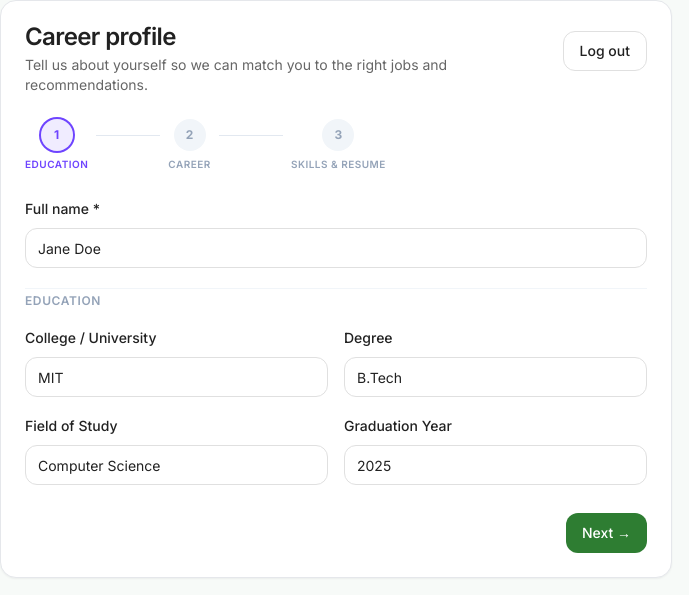
it: ProfileForm › advances from step 1 to step 2 when Next is clicked
The image size is (689, 595).
Expected: the field labelled "Full name *" is shown, [25,228,647,268]
Click the button "Next →".
click(606, 533)  # box [566,513,647,553]
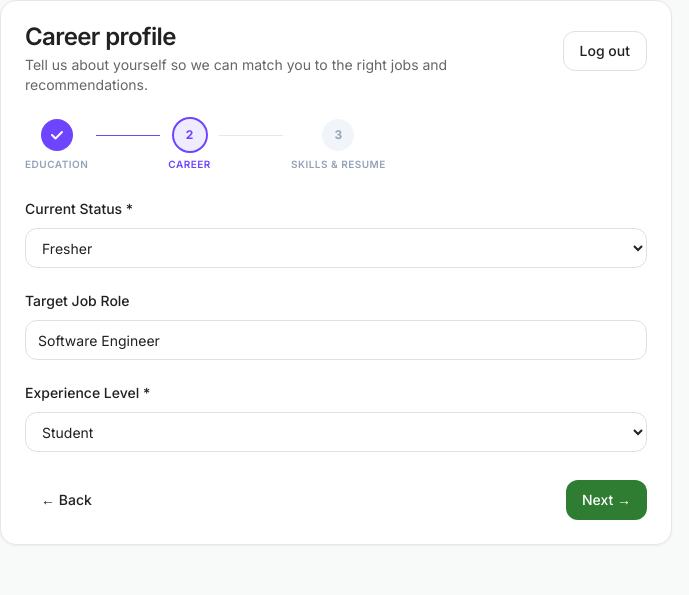
Expected: the dropdown labelled "Current Status *" is shown, [25,228,647,268]
Expected: the dropdown labelled "Experience Level *" is shown, [25,412,647,452]
